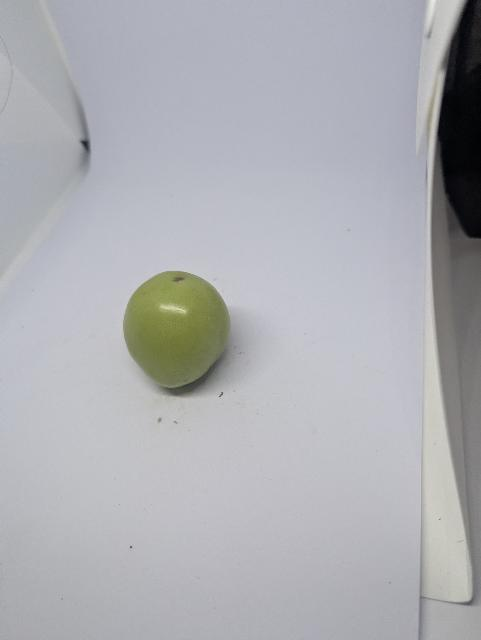green: (107, 255, 240, 405)
